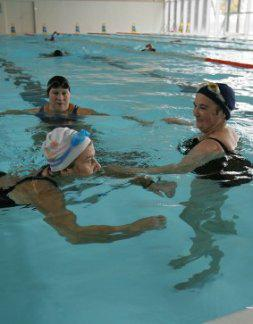human: (0, 126, 178, 248), (152, 80, 253, 249), (0, 74, 112, 119)
